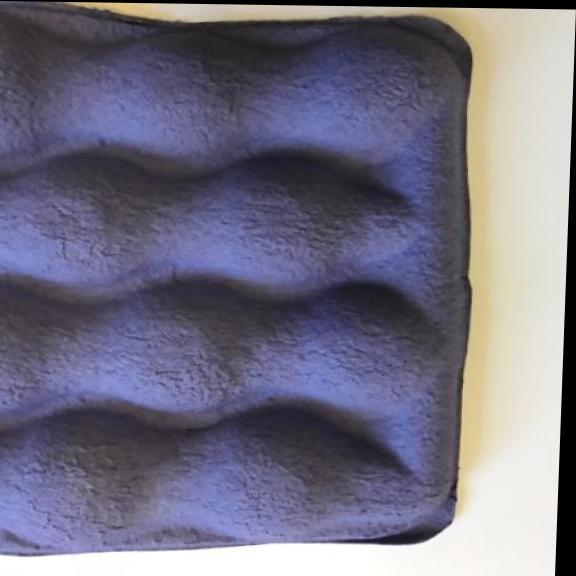Kertas: (0, 3, 478, 566)
